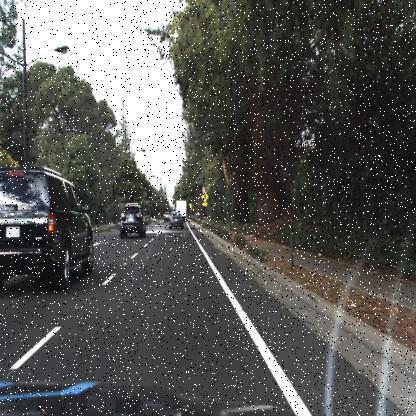car: (1, 164, 92, 288), (116, 201, 146, 243), (166, 210, 187, 230), (162, 210, 172, 226)
truck: (174, 198, 188, 220)
